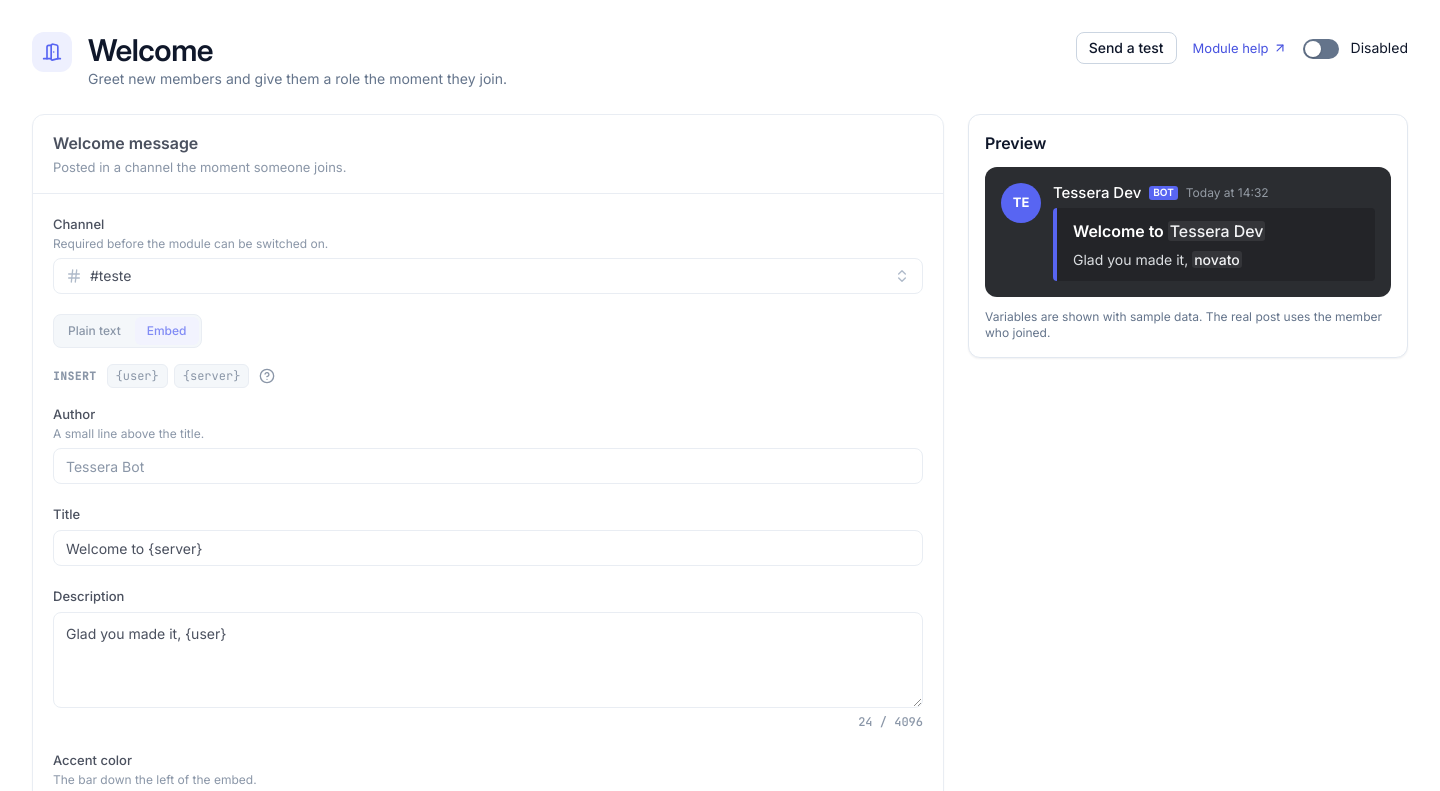
Scenario: changing where the welcome message goes › does not promise a delivery the module is switched off for
Click the button "#teste": (111, 276) [53, 258, 923, 294]
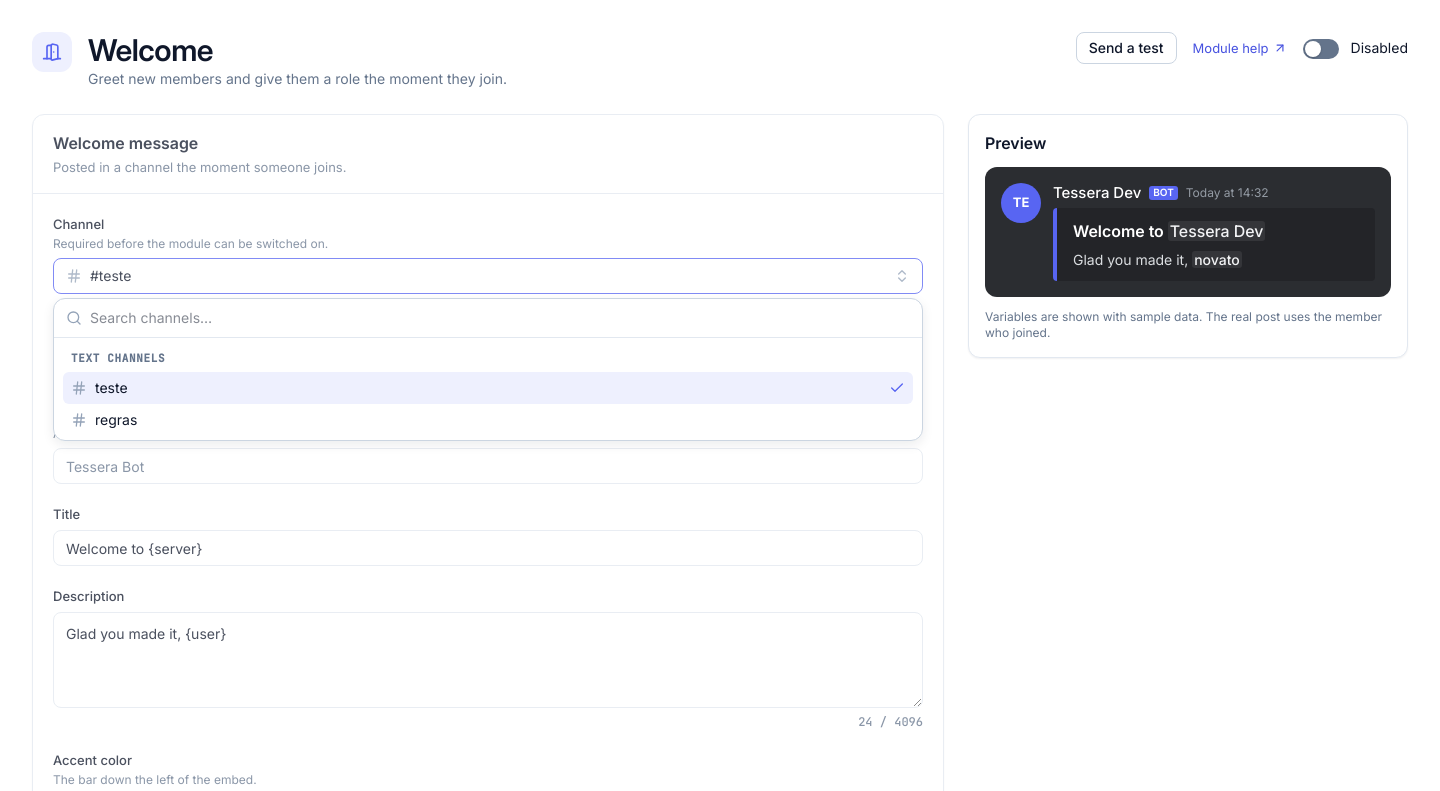
Click the button "regras": (116, 420) [63, 404, 913, 436]
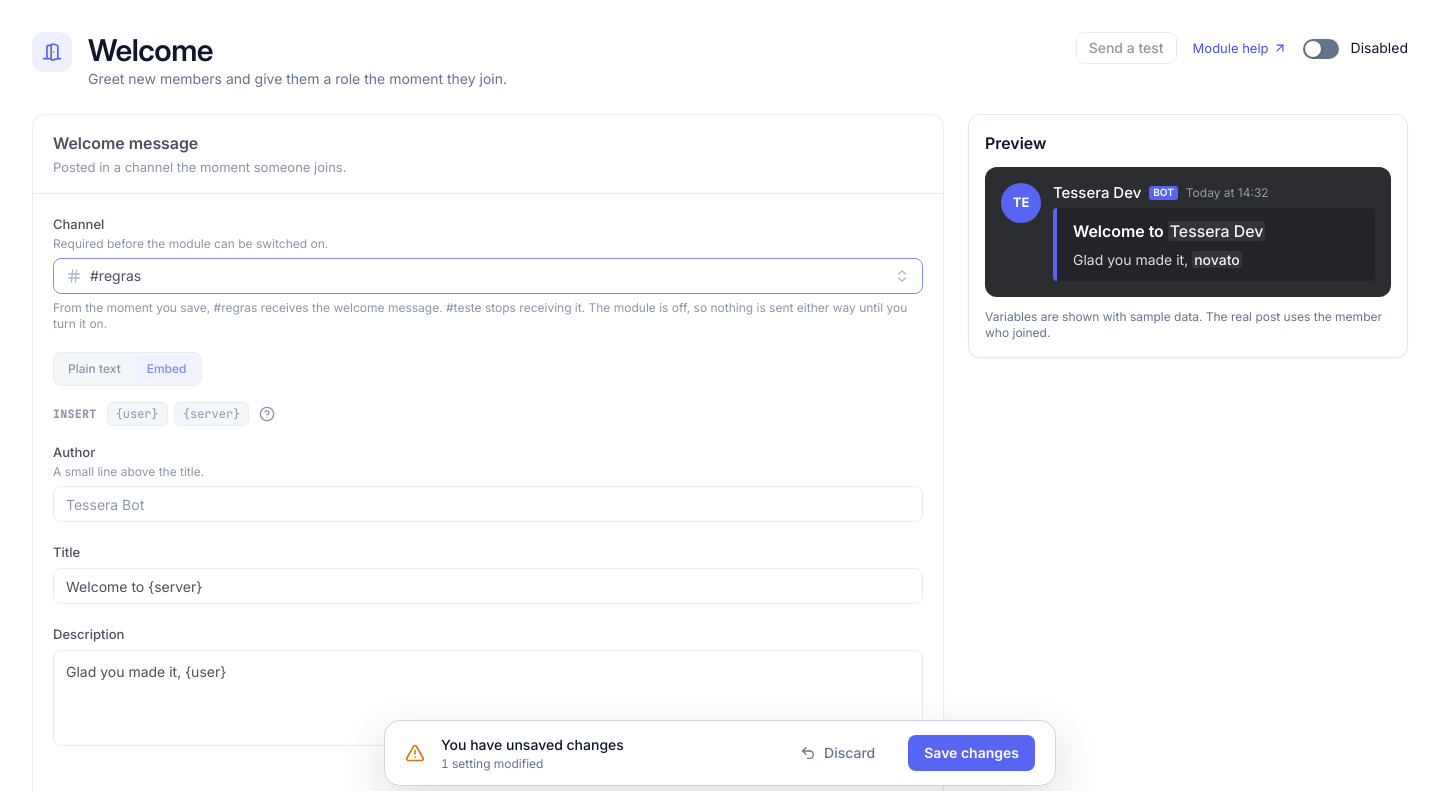
Now the text "The module is off, so nothing is sent either way" is shown, box [53, 300, 907, 331]
